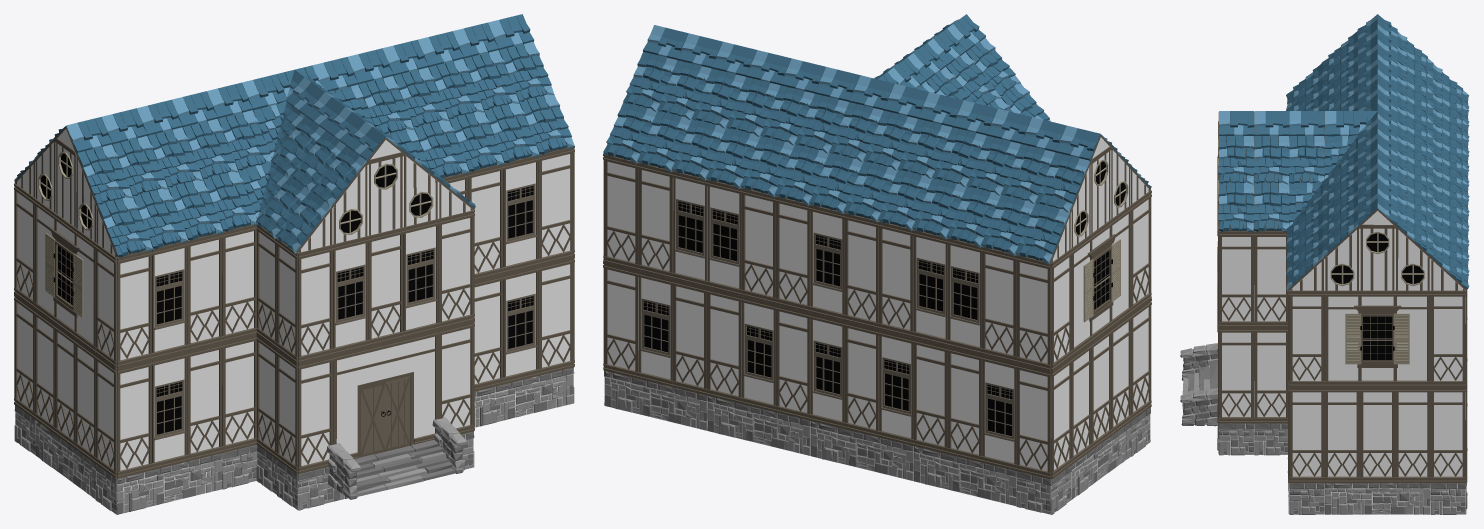
Rendered from House_16_full.fbx.
The picture shows the model from 3 angles, left to right: view 1: azimuth 30°, elevation 25°; view 2: azimuth 150°, elevation 25°; view 3: azimuth 270°, elevation 25°; orthographic projection. The views are drawn at different scales.
Visible parts, largest first — view 1: DOOR_03_2, WINDOW_07_3, STAIRS_02_2, WINDOW_04_5, WALL_01_14, WALL_01_16, WALL_01_15, WINDOW_04_6, WINDOW_04_4, WINDOW_04_11, WALL_01_40, WALL_01_12 (+87 smaller); view 2: WINDOW_07_3, WALL_01_28, WALL_01_53, WALL_01_24, WALL_01_55, WALL_01_27, WALL_01_25, WALL_01_49, WINDOW_04_17, WALL_01_56, WALL_01_30, WINDOW_04_16 (+81 smaller); view 3: WINDOW_07_4, WALL_01_43, WALL_01_42, WALL_01_47, WALL_01_44, WALL_01_48, WALL_01_45, WALL_01_46, FOUNDATION_02_34, WALL_01_34, WALL_01_33, WALL_01_35 (+69 smaller).
Part boxes in pixels (bbox=[...]): DOOR_03_2: bbox=[333, 330, 439, 459]; WINDOW_07_3: bbox=[34, 198, 96, 352]; STAIRS_02_2: bbox=[327, 417, 466, 499]; WINDOW_04_5: bbox=[403, 219, 439, 337]; WALL_01_14: bbox=[298, 244, 333, 363]; WALL_01_16: bbox=[438, 210, 474, 329]; WALL_01_15: bbox=[368, 227, 404, 346]; WINDOW_04_6: bbox=[333, 236, 368, 355]; WINDOW_04_4: bbox=[152, 242, 187, 359]; WINDOW_04_11: bbox=[503, 156, 539, 273]; WALL_01_40: bbox=[538, 148, 574, 265]; WALL_01_12: bbox=[187, 233, 222, 351]; WINDOW_07_3: bbox=[1071, 205, 1131, 356]; WALL_01_28: bbox=[1016, 255, 1051, 371]; WALL_01_53: bbox=[775, 196, 810, 312]; WALL_01_24: bbox=[1016, 363, 1051, 479]; WALL_01_55: bbox=[638, 162, 673, 278]; WALL_01_27: bbox=[844, 321, 879, 437]; WALL_01_25: bbox=[947, 346, 982, 462]; WALL_01_49: bbox=[775, 304, 810, 420]; WINDOW_04_17: bbox=[706, 179, 741, 295]; WALL_01_56: bbox=[603, 154, 638, 270]; WALL_01_30: bbox=[878, 221, 913, 337]; WINDOW_04_16: bbox=[810, 204, 844, 320]; WINDOW_07_4: bbox=[1324, 290, 1430, 387]; WALL_01_43: bbox=[1289, 290, 1324, 387]; WALL_01_42: bbox=[1430, 290, 1465, 387]; WALL_01_47: bbox=[1395, 387, 1430, 483]; WALL_01_44: bbox=[1289, 387, 1324, 483]; WALL_01_48: bbox=[1430, 387, 1465, 483]; WALL_01_45: bbox=[1324, 387, 1359, 483]; WALL_01_46: bbox=[1360, 387, 1395, 483]; FOUNDATION_02_34: bbox=[1324, 483, 1430, 514]; WALL_01_34: bbox=[1219, 327, 1253, 423]; WALL_01_33: bbox=[1219, 231, 1253, 327]; WALL_01_35: bbox=[1254, 327, 1288, 423].
Size of the model in its own units: 1317 by 959 by 819.
